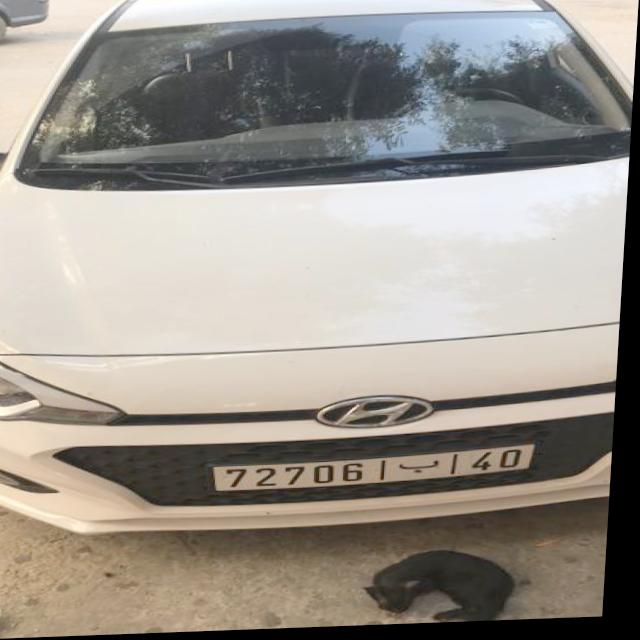License-Plate: (218, 449, 541, 494)
